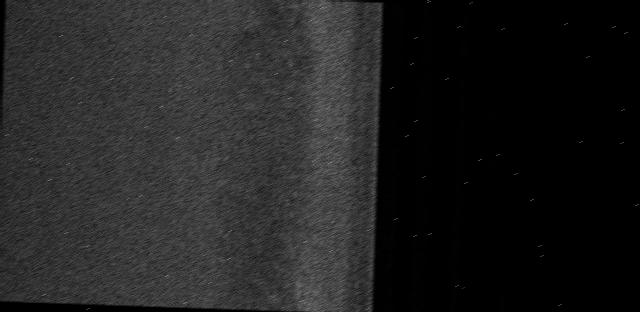silk_spot: (204, 7, 330, 300)
